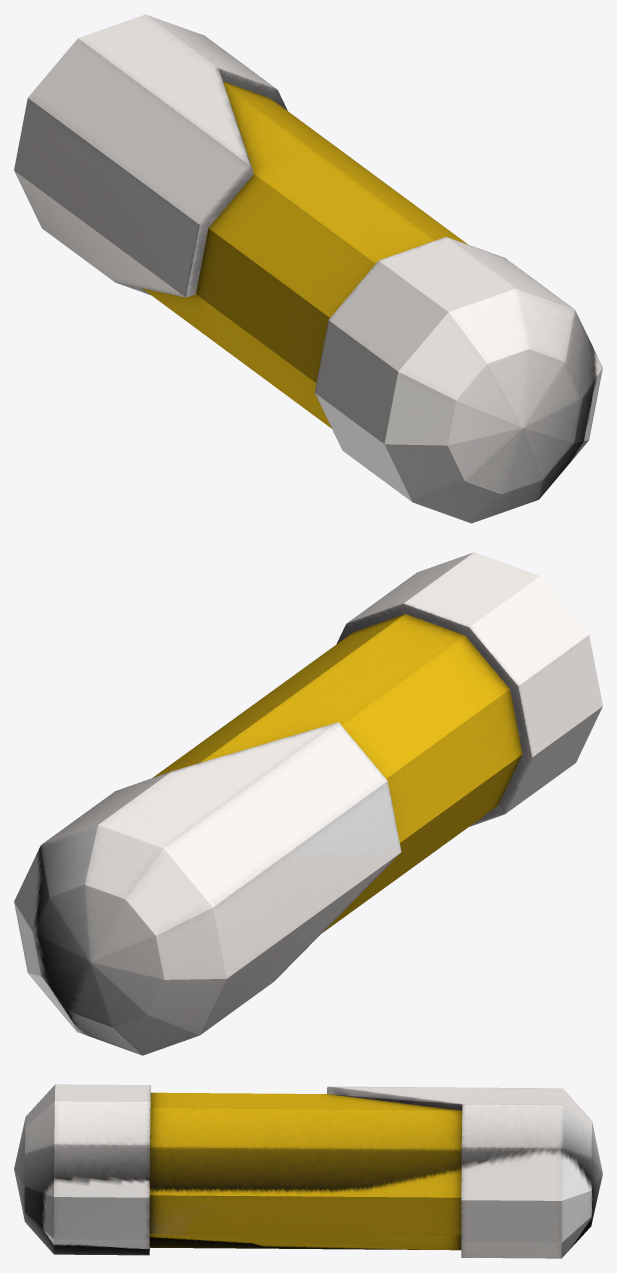
Rendered from Tank.fbx.
The picture shows the model from 3 angles, top to bottom: view 1: azimuth 30°, elevation 25°; view 2: azimuth 150°, elevation 25°; view 3: azimuth 270°, elevation 25°; orthographic projection. The views are drawn at different scales.
Visible parts, largest first — view 1: shati_mesh3; view 2: shati_mesh3; view 3: shati_mesh3.
Part boxes in pixels (<box>): shati_mesh3: <box>14,14,602,523</box>; shati_mesh3: <box>14,552,602,1055</box>; shati_mesh3: <box>14,1084,602,1258</box>.
Size of the model in its own units: 67.88 by 65.94 by 230.
